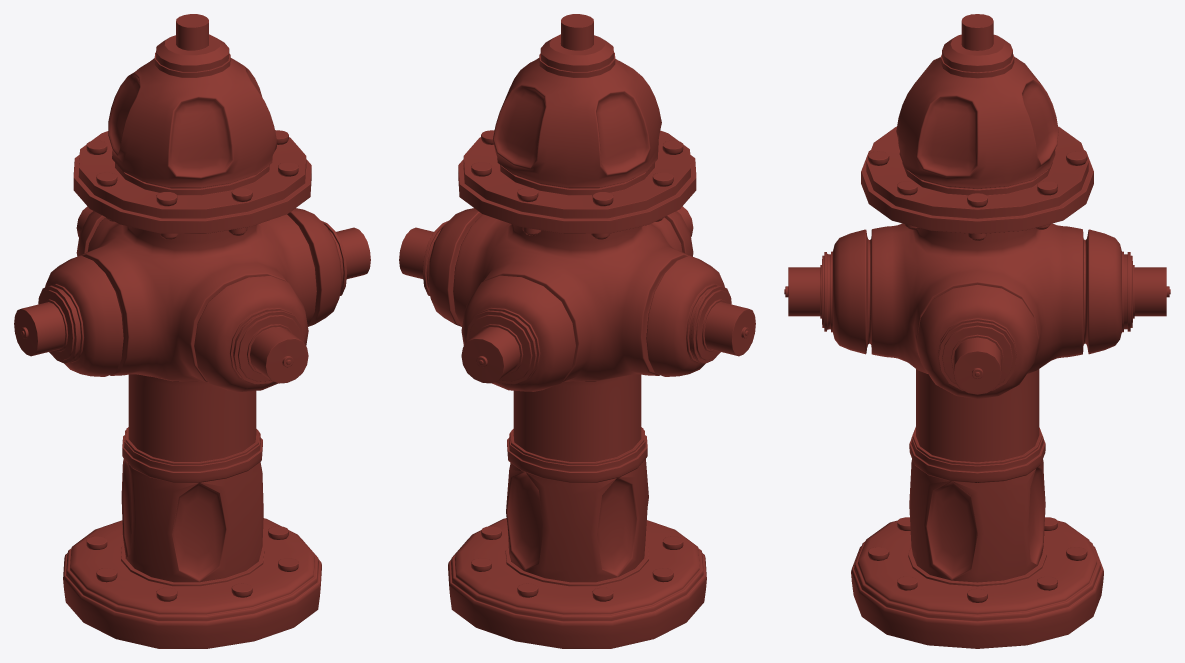
File: fire_hydrant.fbx
The picture shows the model from 3 angles, left to right: view 1: azimuth 30°, elevation 25°; view 2: azimuth 150°, elevation 25°; view 3: azimuth 270°, elevation 25°; orthographic projection.
Visible parts, largest first — view 1: polySurface6; view 2: polySurface6; view 3: polySurface6.
Part boxes in pixels (left/top/right/bottom): polySurface6: left=14, top=14, right=370, bottom=648; polySurface6: left=399, top=14, right=755, bottom=648; polySurface6: left=784, top=14, right=1170, bottom=648.
Bounding box in the file's own units: 2.19 × 3.55 × 2.16.
